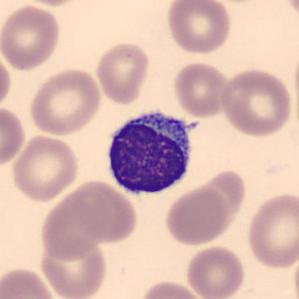Lymphocyte: (100, 104, 198, 200)
RBC: (37, 180, 109, 262), (26, 66, 104, 137), (219, 66, 294, 138), (10, 132, 82, 202), (66, 178, 139, 245), (37, 236, 110, 299), (0, 3, 63, 72), (244, 190, 298, 270), (187, 170, 247, 242), (162, 186, 232, 247), (164, 0, 234, 56), (93, 40, 151, 106), (171, 60, 232, 119), (184, 244, 248, 299), (0, 265, 59, 299), (0, 103, 27, 169), (136, 278, 206, 299), (0, 50, 13, 112), (282, 0, 299, 24)
